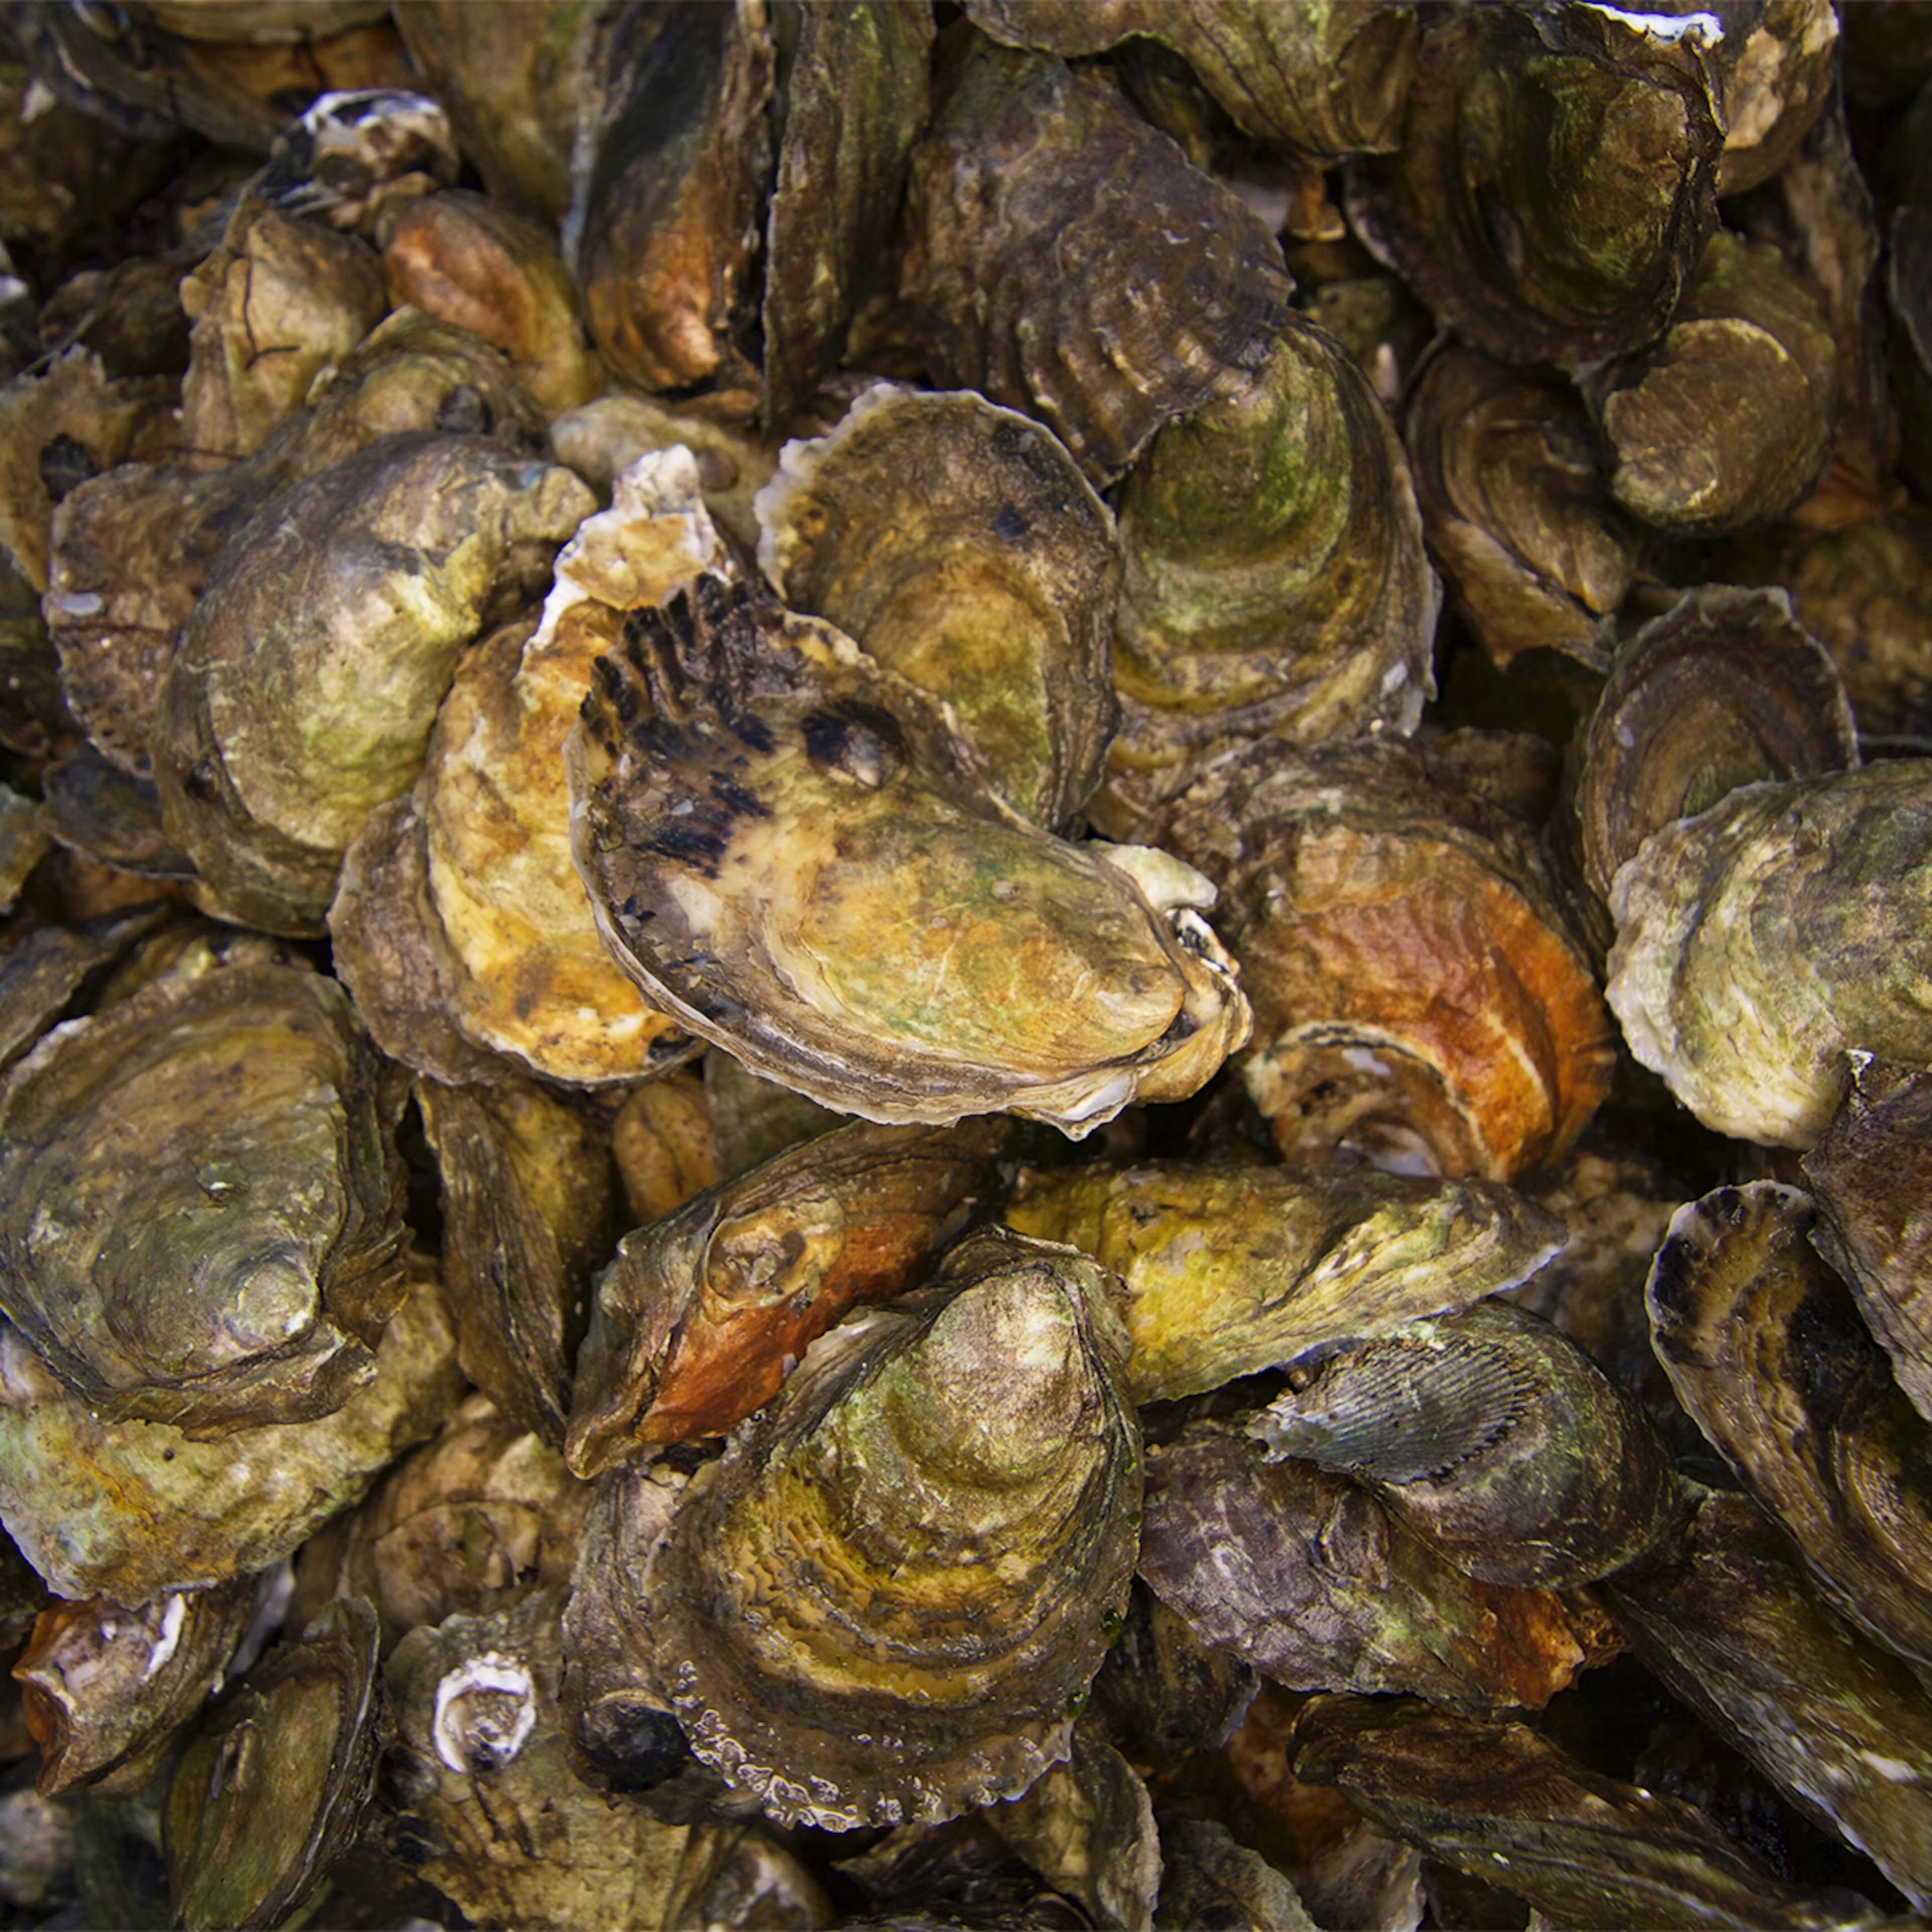Oyster: (594, 591, 1256, 1120), (639, 1240, 1145, 1828), (340, 464, 722, 1081), (53, 315, 531, 773), (156, 430, 586, 931), (0, 971, 403, 1433), (1086, 333, 1430, 842), (1233, 745, 1617, 1177), (895, 71, 1295, 481), (577, 1120, 1049, 1465), (1290, 1698, 1904, 1932), (770, 398, 1111, 816), (1603, 1481, 1932, 1900), (1656, 1182, 1932, 1674), (1145, 1424, 1610, 1698), (1612, 750, 1932, 1139), (1352, 16, 1716, 357), (1242, 1299, 1670, 1575), (1008, 1169, 1545, 1384), (380, 1592, 709, 1927), (1569, 228, 1842, 529), (416, 1074, 632, 1442), (1582, 603, 1856, 881), (577, 0, 773, 386), (161, 1603, 386, 1927), (1408, 345, 1635, 656), (543, 375, 902, 568), (764, 0, 925, 430), (971, 0, 1396, 150), (347, 1401, 607, 1633), (28, 1575, 285, 1799), (184, 196, 386, 465), (389, 189, 602, 405), (393, 0, 586, 228), (1829, 1060, 1932, 1401), (985, 1734, 1159, 1925), (1794, 506, 1932, 727), (1090, 1594, 1253, 1778)
